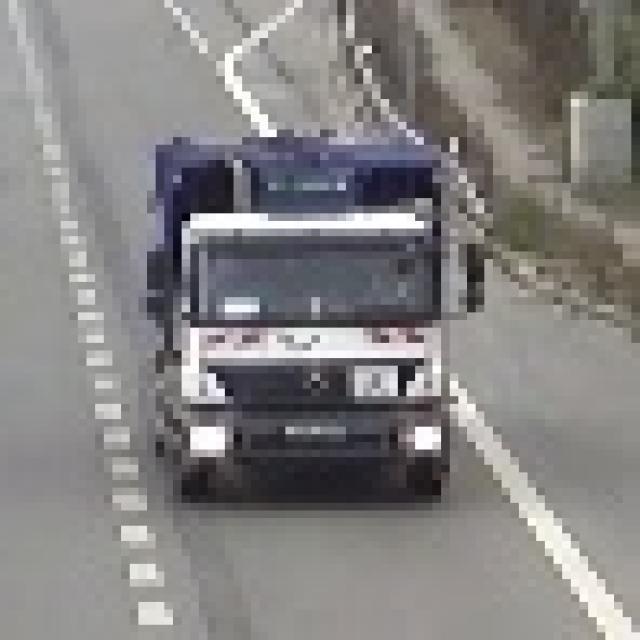truck: (130, 122, 484, 480)
